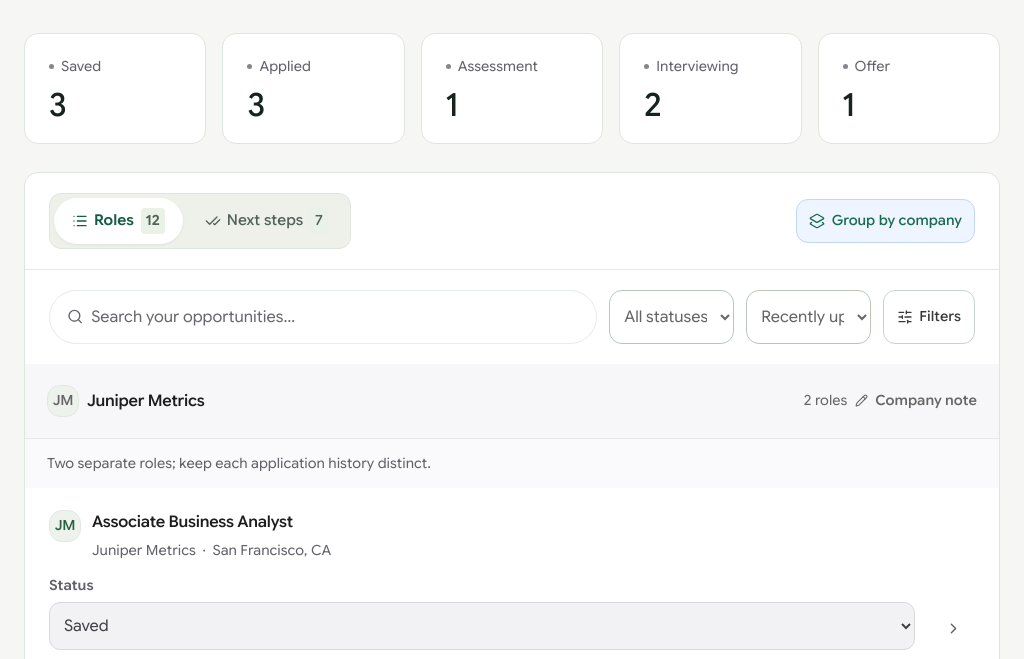
Test case: tracker feedback and next steps › distinguishes an empty search from an empty tracker and restores saved roles
The width and height of the screenshot is (1024, 659).
Type "no-company-can-match-this-query" into the field named "Search your tracker" at point(335, 317), box [91,292,579,342]
(page scrolled)
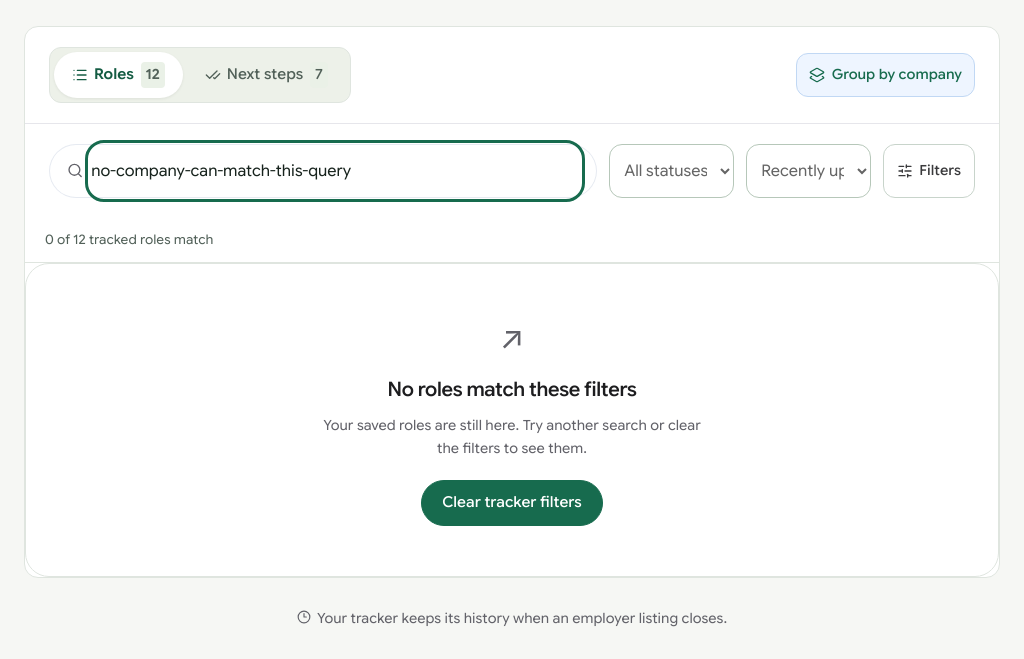
Check: the heading "No roles match these filters" is shown, box [388,377,636,402]
Click the button "Clear tracker filters" at point(512, 503), box [421,480,603,526]
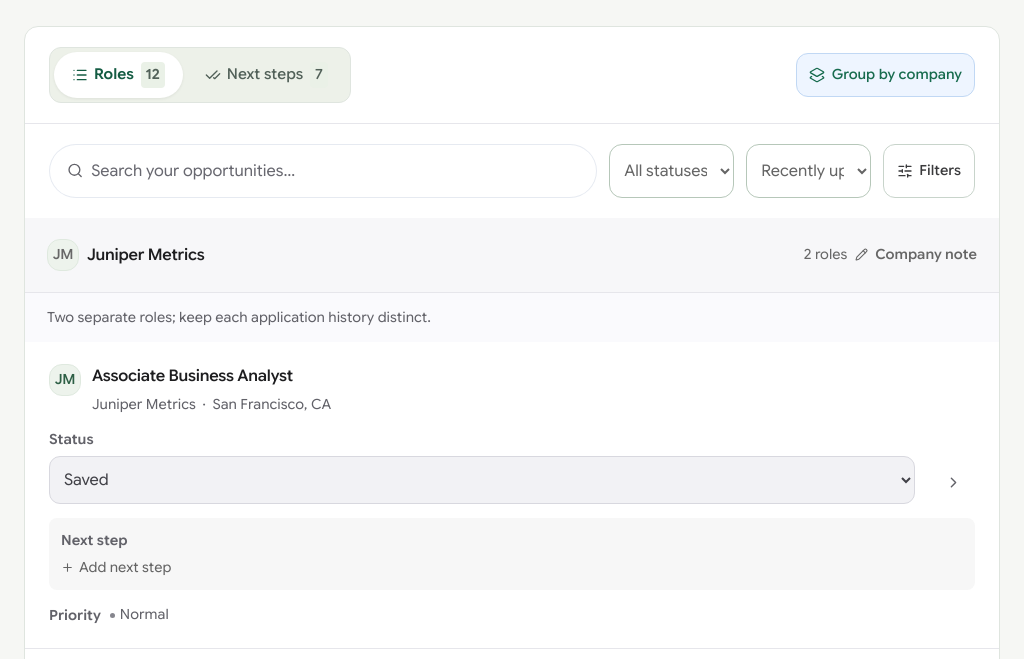
Check: the number of elements with class "tracker-row" is 12
Check: the field named "Search your tracker" is empty, box [91,146,579,196]
